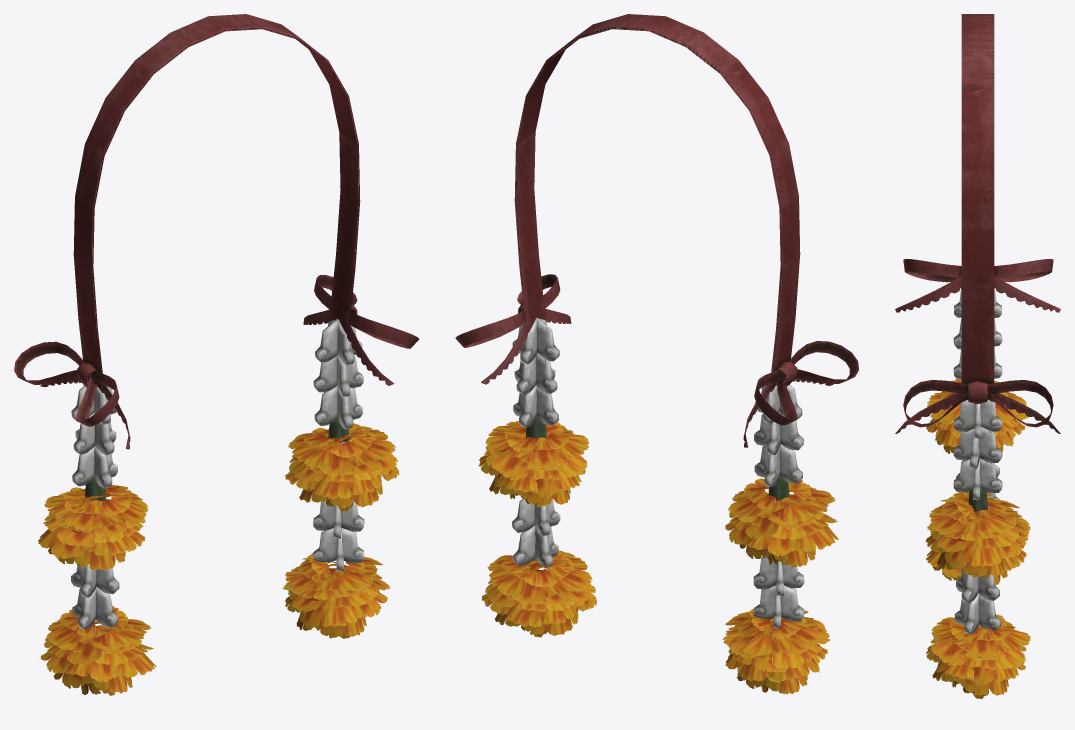
File: FlowerGarland_01.fbx
The picture shows the model from 3 angles, left to right: view 1: azimuth 30°, elevation 25°; view 2: azimuth 150°, elevation 25°; view 3: azimuth 270°, elevation 25°; orthographic projection. The views are drawn at different scales.
Parts seen in each view (by area): view 1: polySurface28; view 2: polySurface28; view 3: polySurface28.
Boxes of the visible parts, x1=… form: polySurface28: x1=14, y1=14, x2=419, y2=695; polySurface28: x1=455, y1=14, x2=858, y2=694; polySurface28: x1=895, y1=14, x2=1060, y2=698.
Bounding box in the file's own units: 77.97 × 129 × 30.93.
